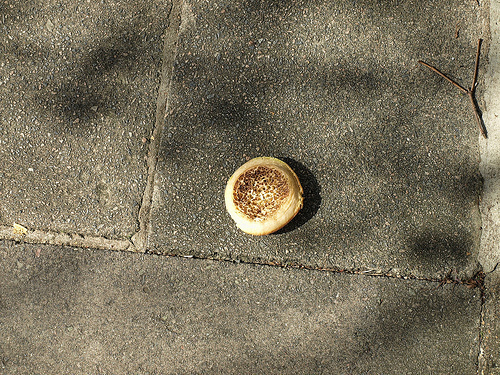litter: (224, 155, 304, 238)
